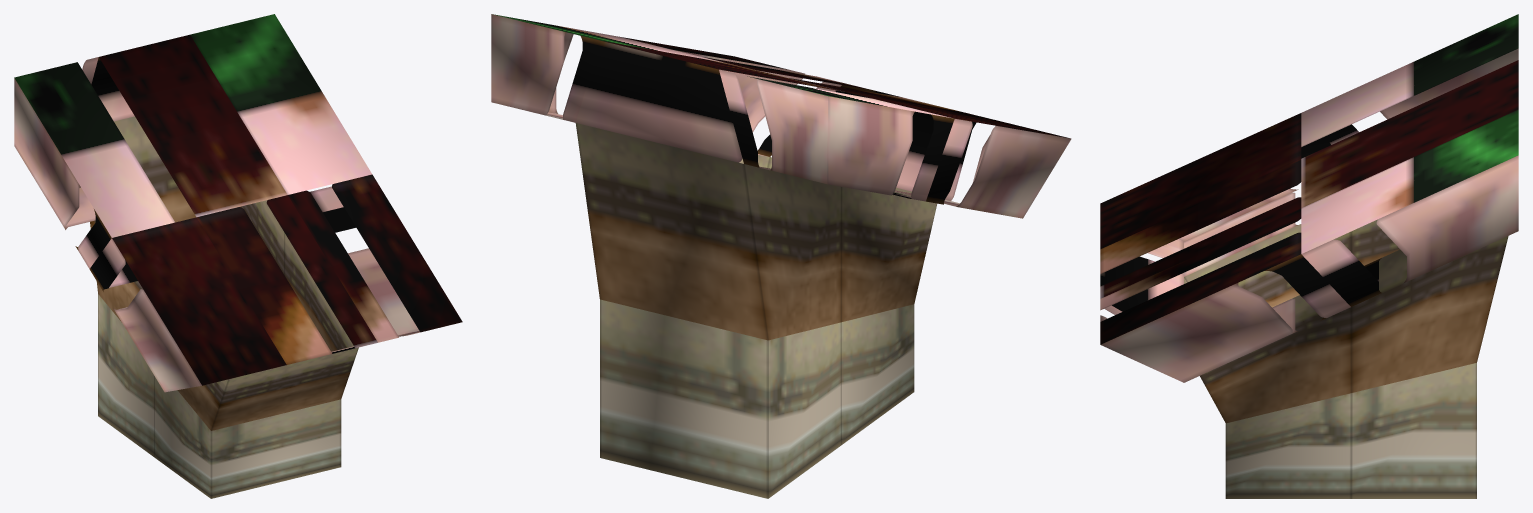
3 renders of one model, left to right at view 1: azimuth 30°, elevation 25°; view 2: azimuth 150°, elevation 25°; view 3: azimuth 270°, elevation 25°, orthographic. The views are drawn at different scales.
Visible parts, largest first — view 1: T1L8M001_11; view 2: T1L8M001_11; view 3: T1L8M001_11.
Part boxes in pixels (x1,y1,x2,y2): T1L8M001_11: (14,14,462,498); T1L8M001_11: (491,14,1071,498); T1L8M001_11: (1100,14,1518,498).
Bounding box in the file's own units: 0.7998 × 1 × 1.
